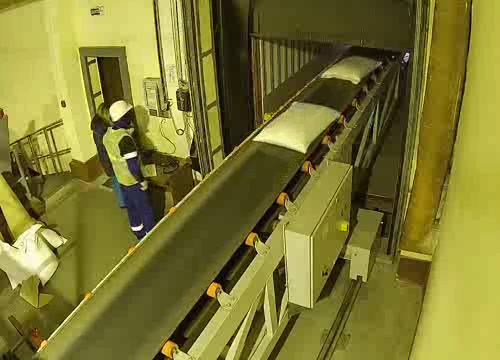bag: (246, 99, 353, 156), (317, 54, 386, 88)
